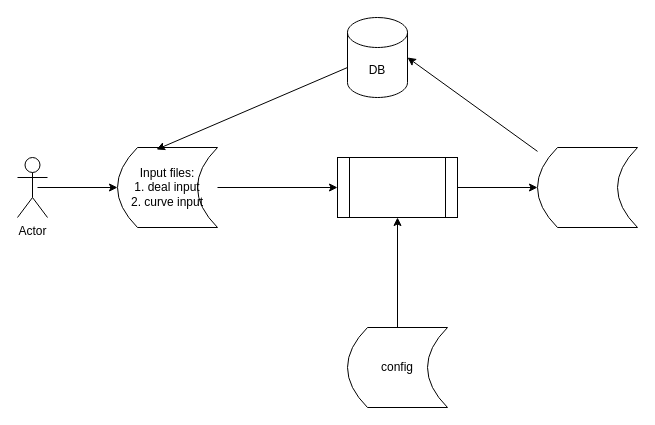
The diagram is 655 pixels wide and 425 high, and some of its shapes have lost their labels. Here are the shapes that lost their labels. From the top down, the centre of each, then its label:
(x=397, y=187): engine
(x=587, y=187): output: 1. pv output 2. log output
